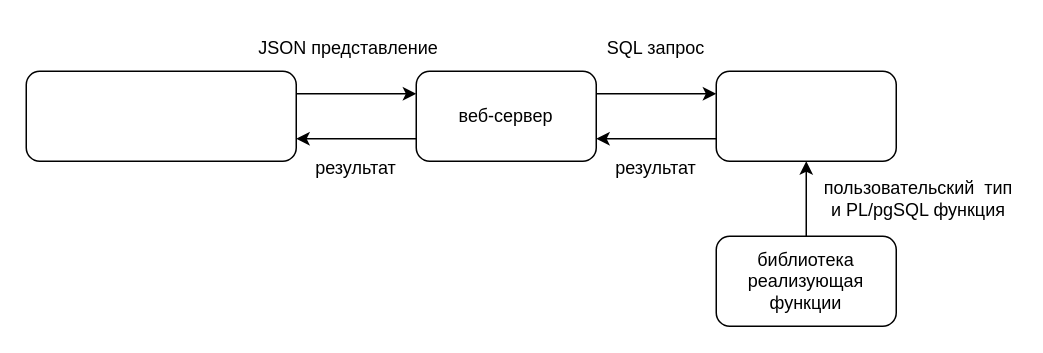
The diagram is 1043 pixels wide and 353 high, and some of its shapes have lost their labels. The centre of each missing label's shape, as x and y in pixels:
PostgreSQL сервер: point 805,115
пользовательский интерфейс: создание и отображение графа: point 160,115
